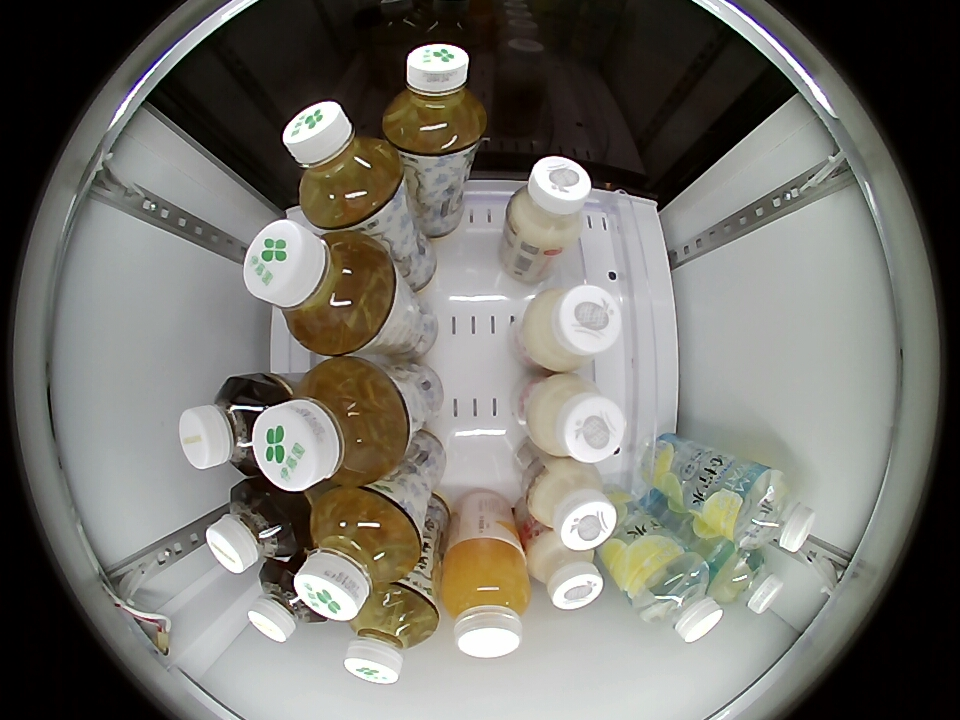baicha: (243, 221, 397, 355), (255, 358, 409, 490), (295, 489, 422, 620), (284, 101, 402, 228), (383, 44, 486, 157), (344, 584, 439, 685)
qinningshui: (632, 552, 724, 643), (732, 467, 816, 552), (712, 548, 783, 614)
weic: (440, 540, 531, 658)
weiweidounai: (523, 281, 621, 372), (528, 374, 626, 463), (505, 155, 592, 249), (529, 462, 618, 550), (528, 533, 603, 611)
wulongcha: (179, 375, 282, 473), (206, 479, 303, 574), (249, 561, 325, 643)
